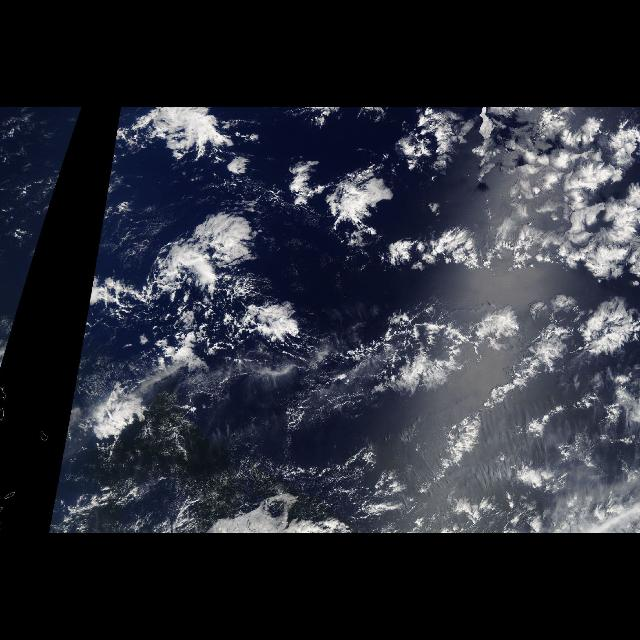Flower: (458, 109, 640, 403)
Gravel: (172, 358, 450, 448)
